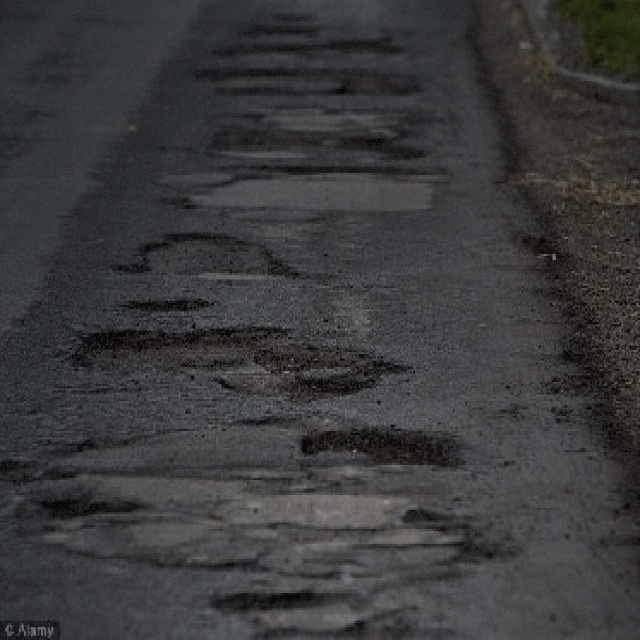pothole: (69, 322, 414, 403), (106, 226, 302, 286), (204, 124, 426, 164), (189, 60, 420, 98), (297, 424, 470, 474), (208, 36, 400, 62), (118, 294, 216, 314)
